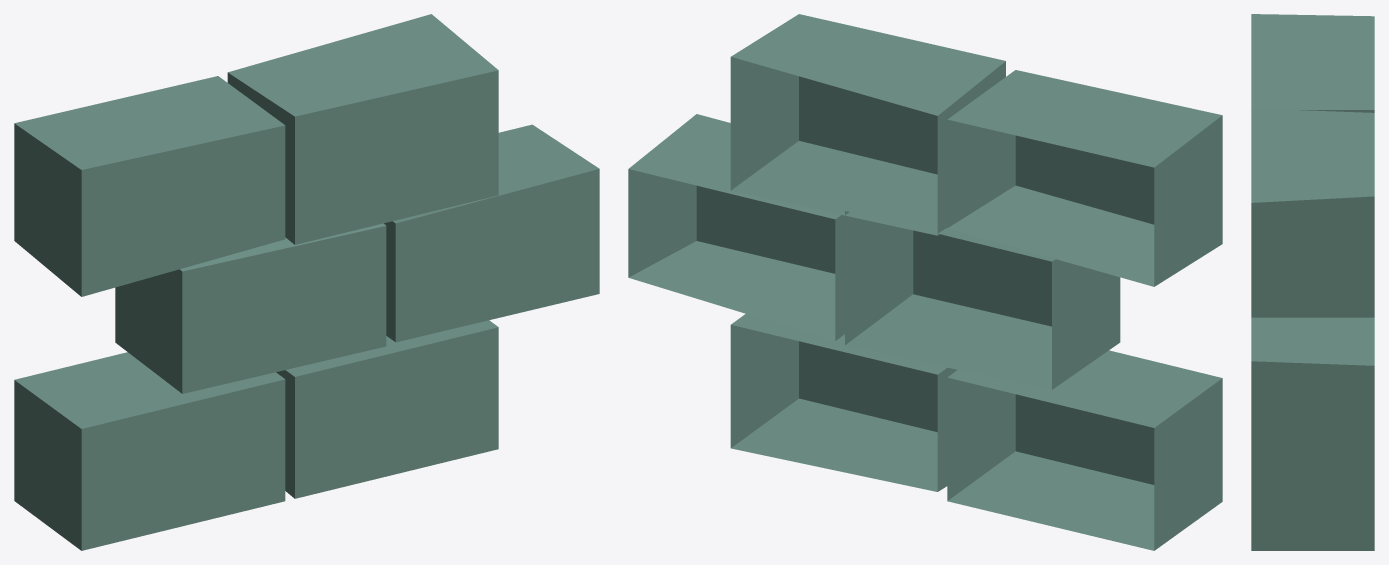
File: Bricks_Small.glb
3 views of the same model, side by side, from view 1: azimuth 30°, elevation 25°; view 2: azimuth 150°, elevation 25°; view 3: azimuth 270°, elevation 25° (orthographic). The views are drawn at different scales.
Parts seen in each view (by area): view 1: Bricks_Small; view 2: Bricks_Small; view 3: Bricks_Small.
Part boxes in pixels (left/top/right/bottom): Bricks_Small: left=14, top=14, right=599, bottom=550; Bricks_Small: left=628, top=14, right=1222, bottom=550; Bricks_Small: left=1251, top=14, right=1374, bottom=550.
Size of the model in its own units: 0.6067 by 0.4318 by 0.1364.
1 material, 1 textured.
